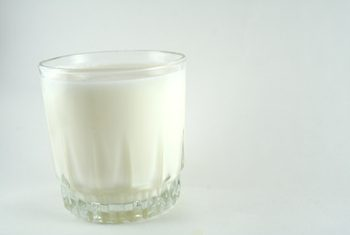glass of milk: (58, 59, 173, 218)
